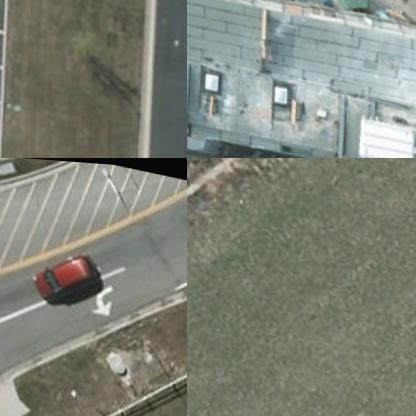car: (20, 236, 103, 308)
